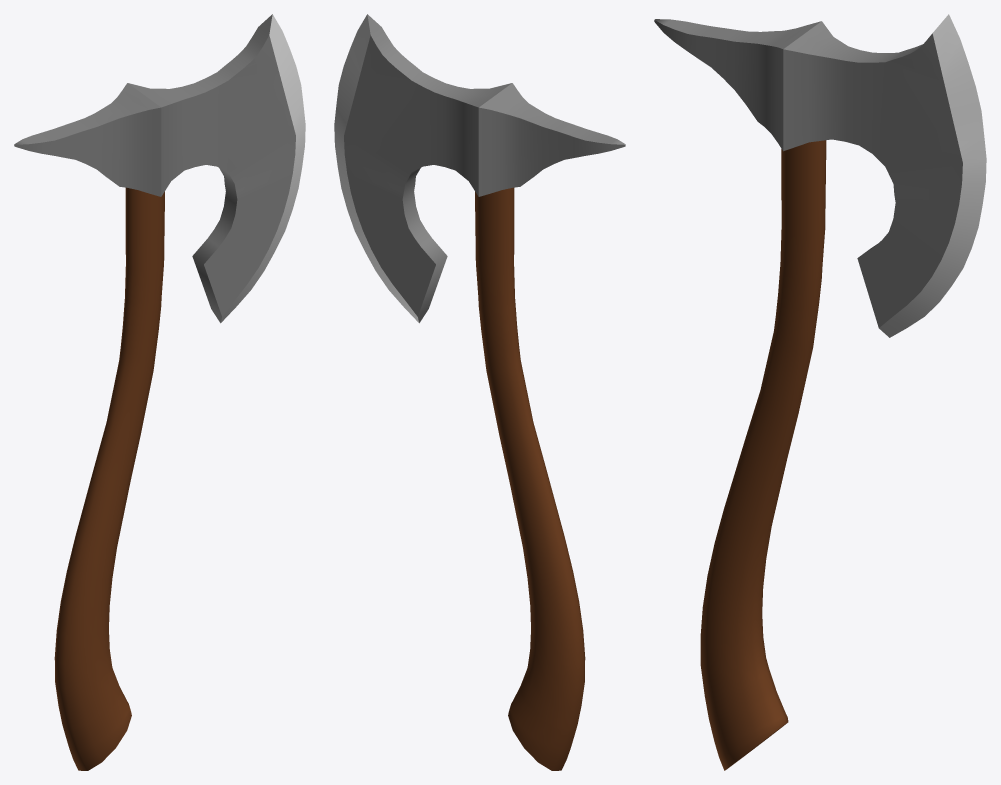
The model's file is Viking_Axe.fbx.
The picture shows the model from 3 angles, left to right: view 1: azimuth 30°, elevation 25°; view 2: azimuth 150°, elevation 25°; view 3: azimuth 330°, elevation 25°; orthographic projection. The views are drawn at different scales.
Parts seen in each view (by area): view 1: Viking_Axe; view 2: Viking_Axe; view 3: Viking_Axe.
Part boxes in pixels (x1,y1,x2,y2): Viking_Axe: [14, 14, 305, 770]; Viking_Axe: [334, 14, 625, 770]; Viking_Axe: [654, 14, 986, 770].
Bounding box in the file's own units: 76.23 × 178 × 15.34.
